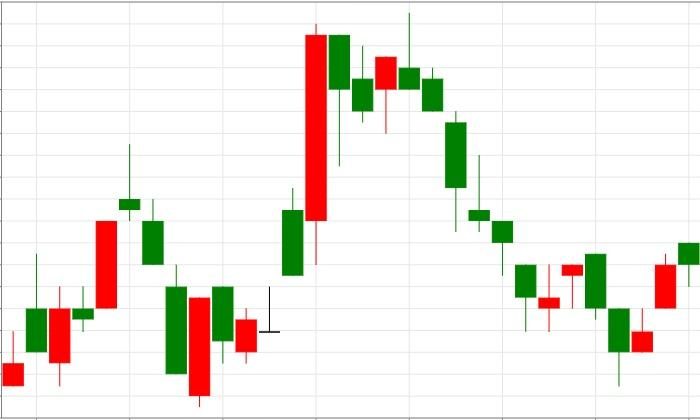evening_star_fall: (49, 144, 164, 386)
